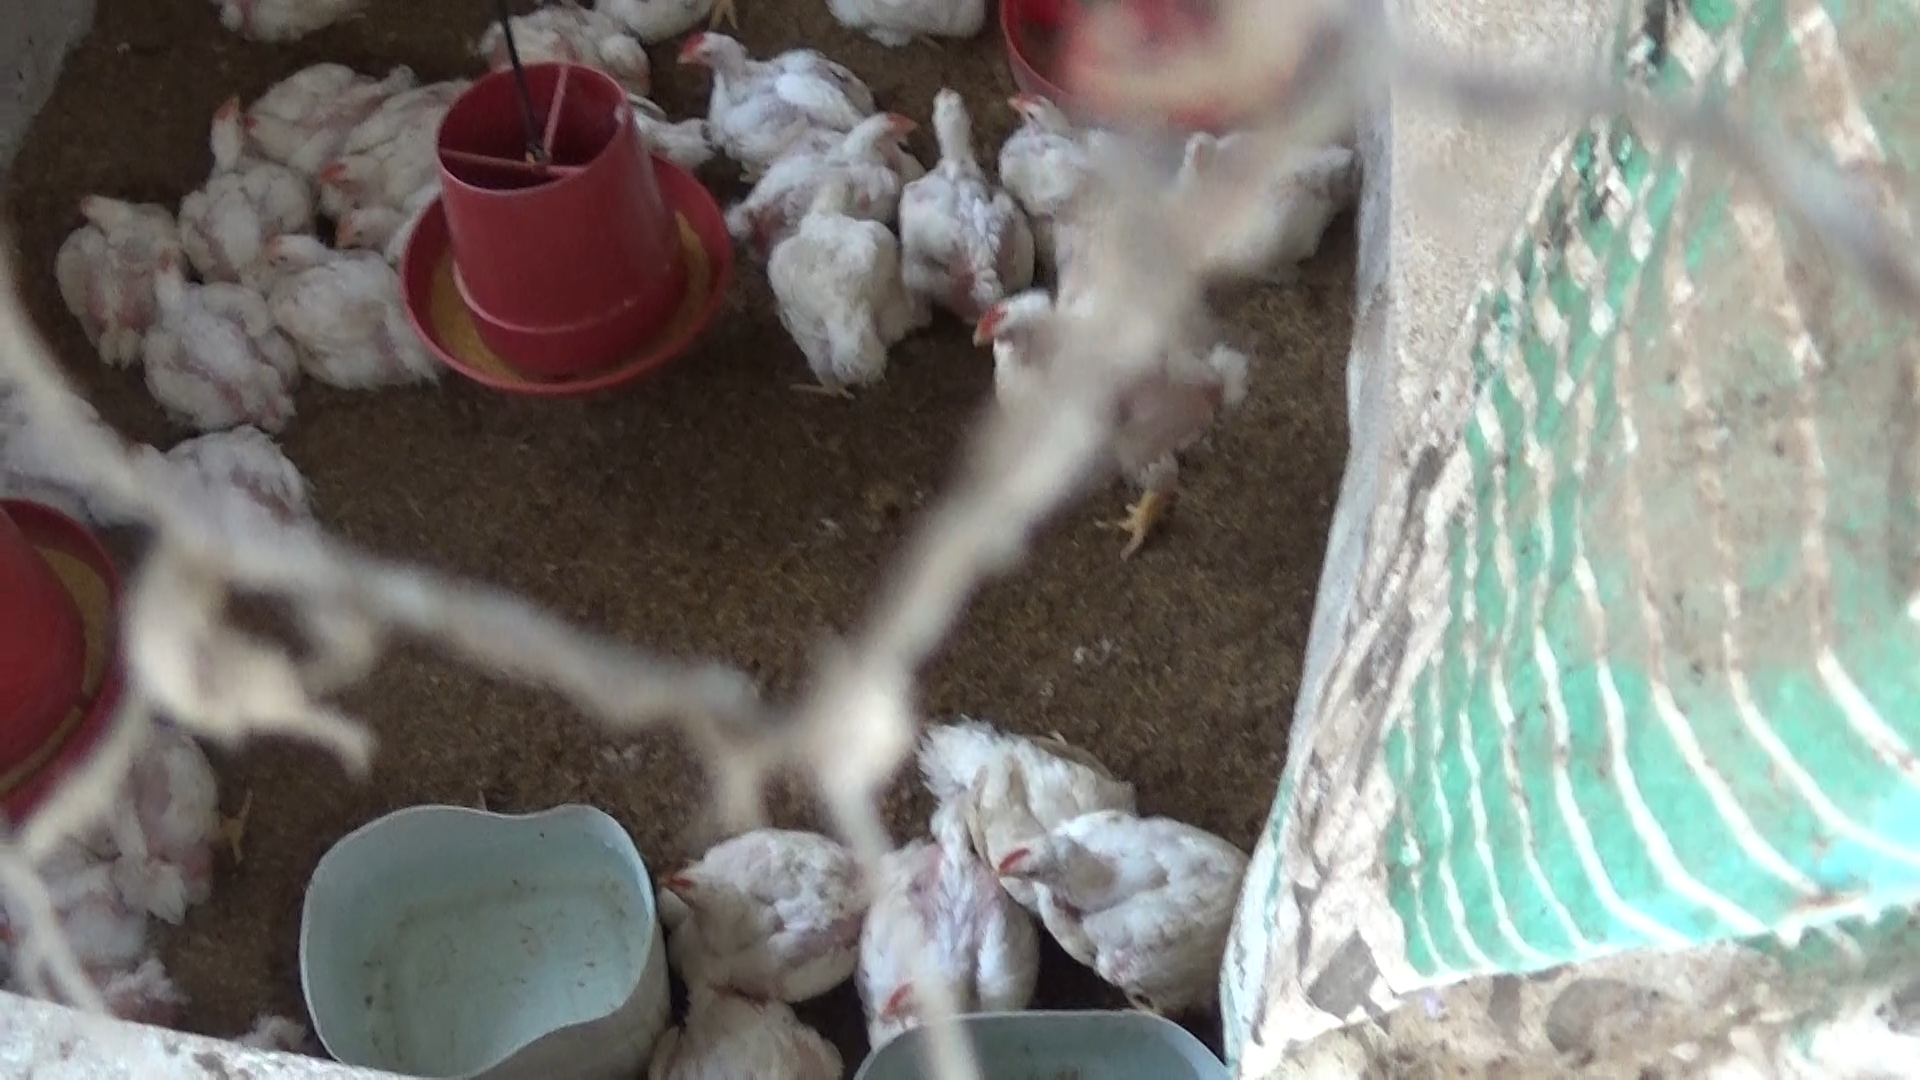Pollos: (994, 803, 1265, 1006), (653, 833, 880, 1006), (852, 833, 1007, 1056), (120, 237, 295, 429), (988, 71, 1162, 264), (770, 148, 905, 396), (255, 223, 444, 393), (723, 99, 940, 239), (680, 20, 887, 166), (909, 76, 1025, 318), (314, 84, 473, 256), (166, 80, 305, 258), (53, 185, 182, 367), (229, 55, 418, 164), (460, 4, 654, 75)
